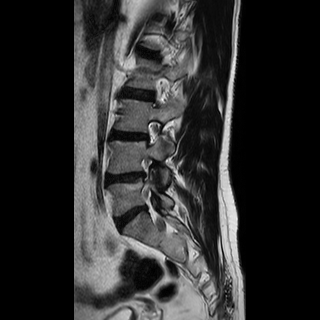RFS0: (139, 114, 165, 149)
